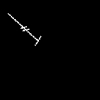treble_crochet: (10, 15, 39, 43)
